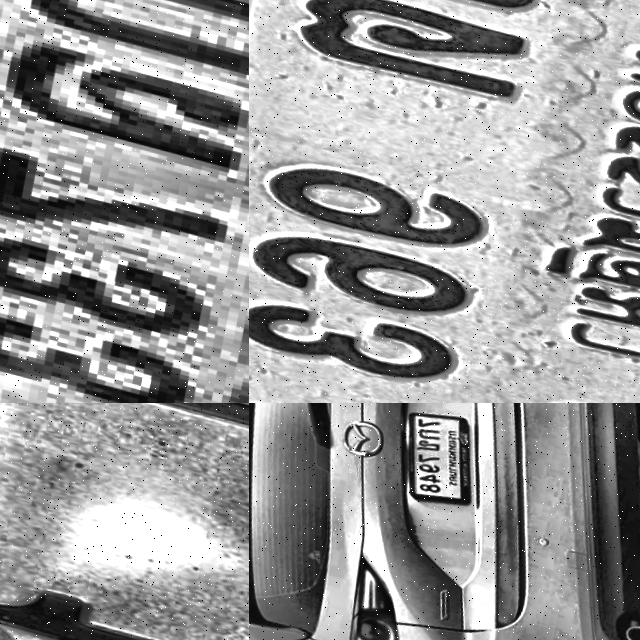license-plate: (249, 0, 640, 403), (0, 0, 249, 403), (0, 403, 249, 640), (381, 403, 487, 507)
